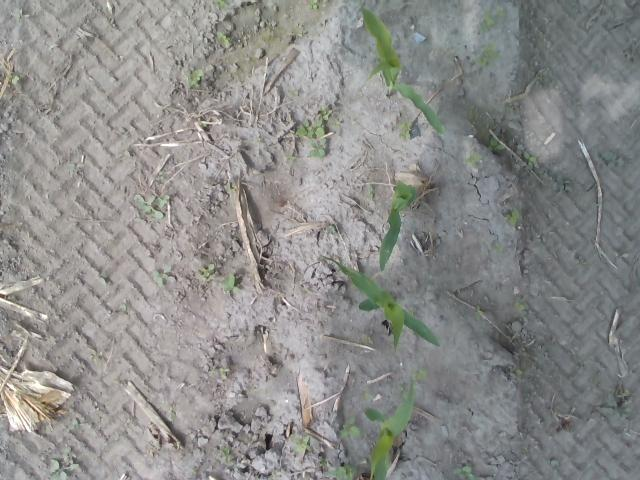Maize: (319, 256, 441, 354), (360, 5, 448, 136), (364, 371, 418, 480), (378, 182, 418, 273)
Weeds: (296, 119, 330, 156), (132, 192, 169, 220), (603, 390, 634, 420), (47, 457, 81, 480), (472, 40, 502, 66), (341, 416, 362, 438), (334, 462, 358, 480), (453, 462, 476, 480), (606, 148, 625, 168), (478, 11, 496, 32), (314, 104, 332, 124), (186, 70, 204, 88), (398, 120, 414, 140), (486, 136, 506, 152), (154, 270, 171, 288), (222, 274, 239, 292), (504, 208, 521, 226), (218, 446, 235, 464), (209, 366, 230, 380), (200, 262, 214, 282), (466, 152, 482, 168), (522, 151, 535, 168), (414, 366, 429, 380), (296, 434, 310, 448), (217, 32, 230, 44), (287, 88, 300, 98), (306, 0, 318, 10), (515, 302, 525, 312), (70, 418, 80, 428), (12, 73, 21, 84), (214, 0, 226, 7)
